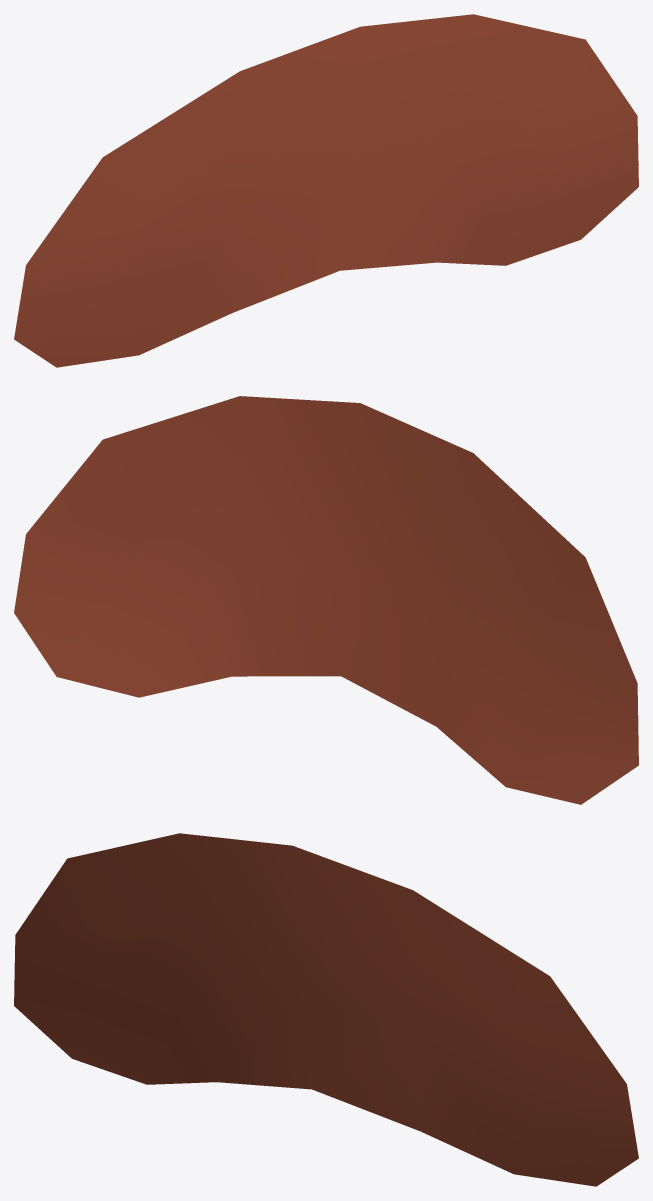
Rendered from lips_7.fbx.
3 renders of one model, top to bottom at view 1: azimuth 30°, elevation 25°; view 2: azimuth 150°, elevation 25°; view 3: azimuth 330°, elevation 25°, orthographic.
Visible parts, largest first — view 1: lips_7; view 2: lips_7; view 3: lips_7.
Boxes of the visible parts, bbox=[...] form: lips_7: bbox=[14, 14, 638, 367]; lips_7: bbox=[14, 396, 638, 804]; lips_7: bbox=[14, 833, 638, 1186].
Size of the model in its own units: 7.44 by 3.55 by 0.8569.
